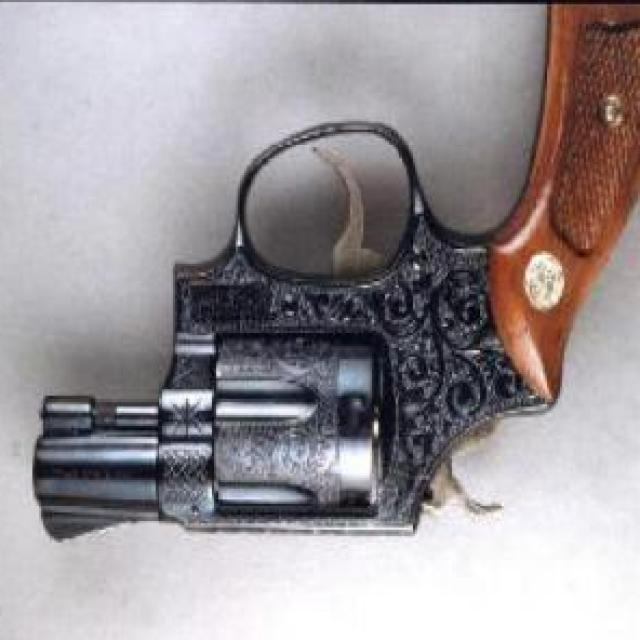pistol: (35, 3, 640, 547)
